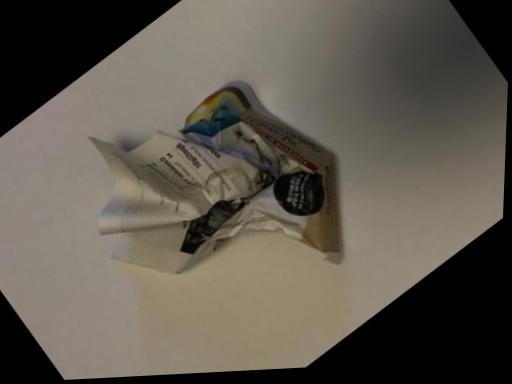paper: (0, 0, 380, 379)
